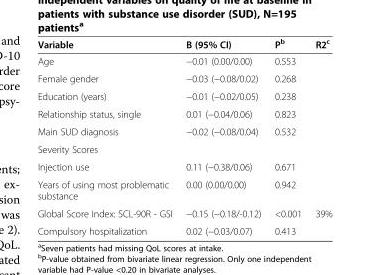table: (36, 36, 331, 236)
table column: (36, 36, 178, 236), (178, 36, 267, 236), (267, 36, 307, 236), (307, 36, 331, 236)
table column header: (36, 36, 331, 52)
table projected row header: (36, 140, 331, 157)
table row: (36, 175, 331, 204), (36, 86, 331, 104), (36, 104, 331, 122), (36, 122, 331, 140), (36, 157, 331, 175), (36, 52, 331, 69), (36, 69, 331, 86), (36, 140, 331, 157), (36, 204, 331, 221), (36, 36, 331, 52), (36, 221, 331, 236)
